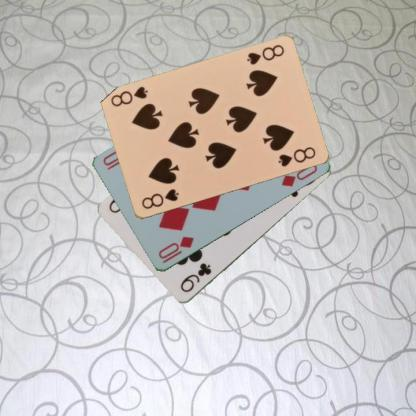10d: (156, 234, 196, 261)
8s: (244, 42, 286, 67), (138, 187, 180, 211)
9c: (178, 260, 212, 294)
